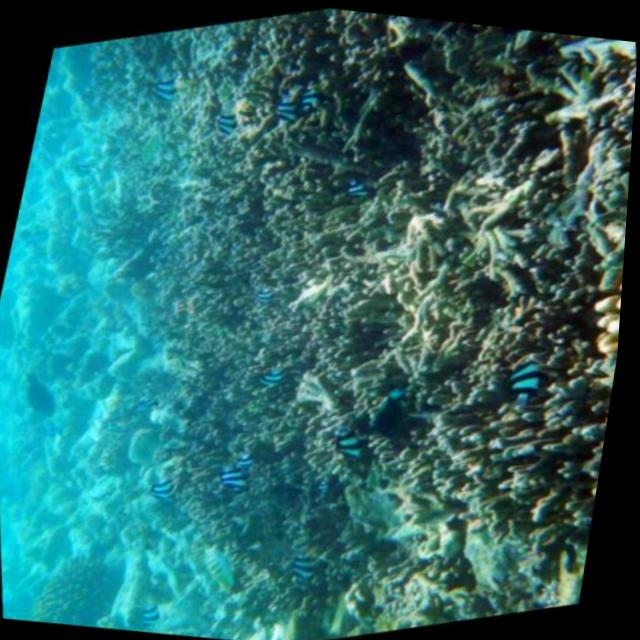Dead Coral: (58, 2, 640, 640)
